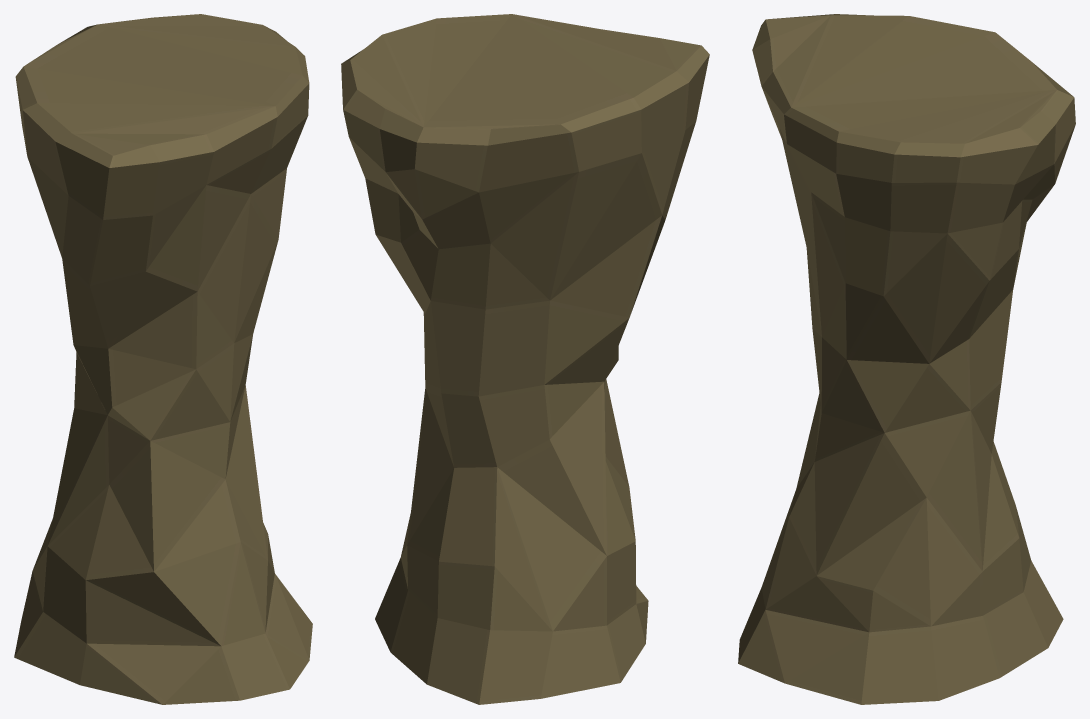
File: Pillar-A01.fbx
The picture shows the model from 3 angles, left to right: view 1: azimuth 30°, elevation 25°; view 2: azimuth 150°, elevation 25°; view 3: azimuth 270°, elevation 25°; orthographic projection.
Parts seen in each view (by area): view 1: Pillar-A01; view 2: Pillar-A01; view 3: Pillar-A01.
Part boxes in pixels (x1,y1,x2,y2): Pillar-A01: [14, 14, 312, 704]; Pillar-A01: [341, 14, 709, 704]; Pillar-A01: [738, 14, 1075, 704].
Bounding box in the file's own units: 208 × 214 × 397.
